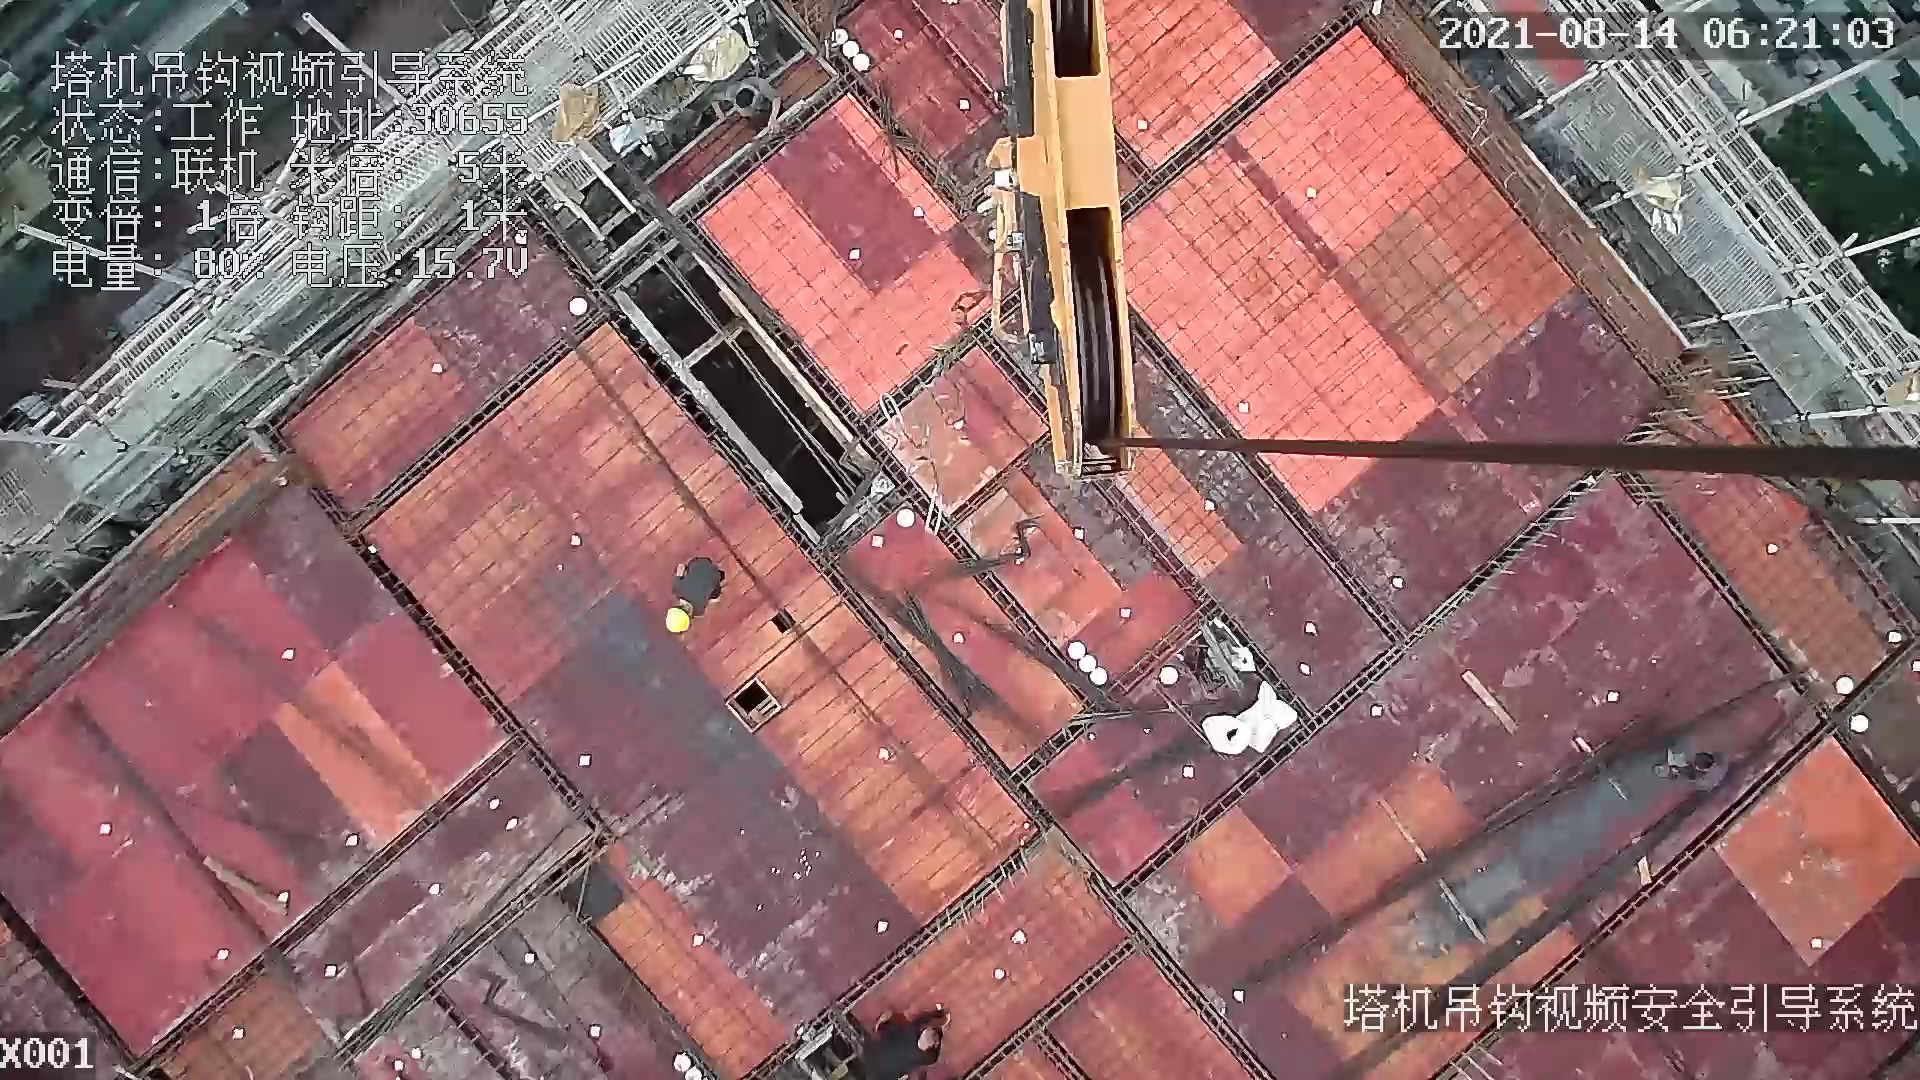helmet: (660, 605, 693, 630)
hook: (969, 1, 1142, 481)
person: (663, 550, 728, 636)
